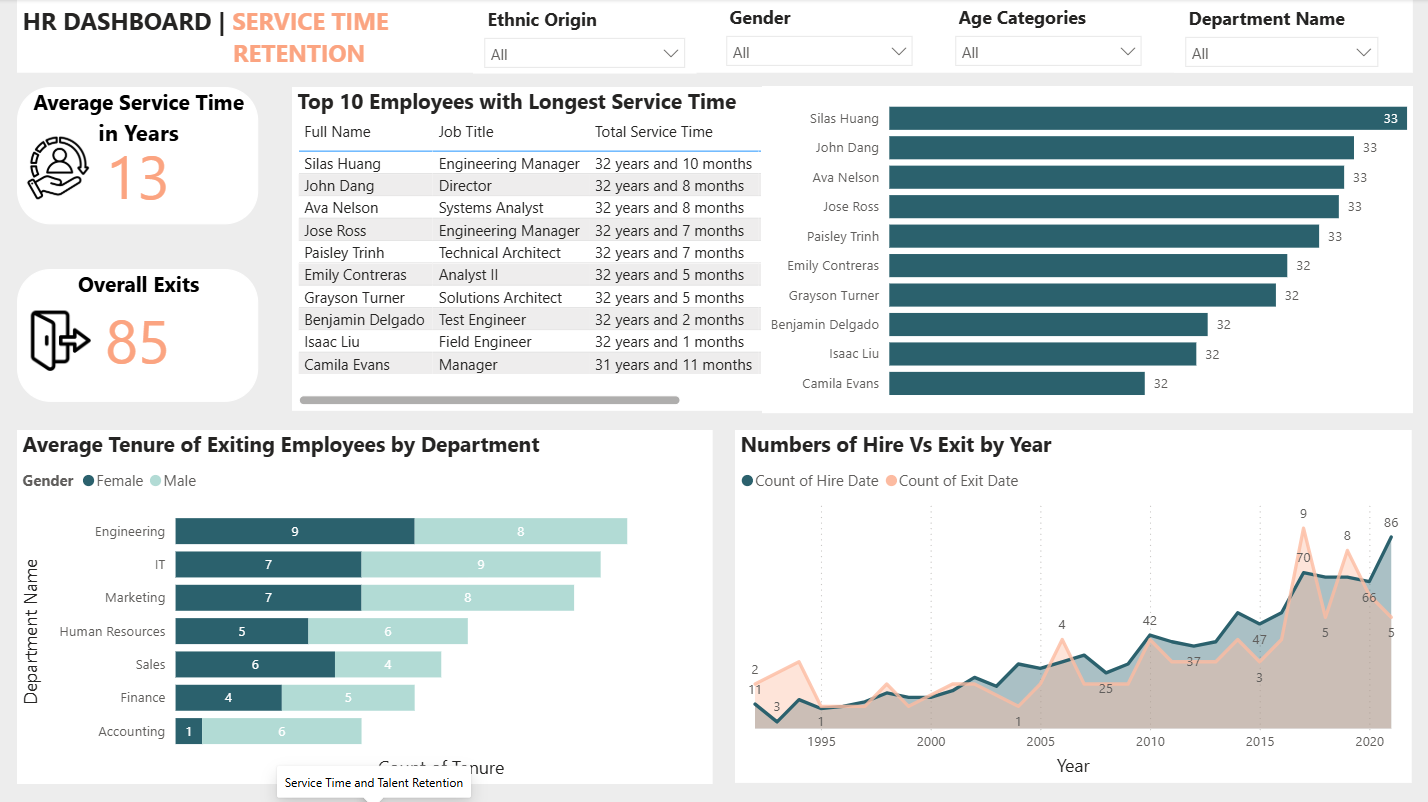

The dashboard page shown, as its layout file describes it:
{"tool":"powerbi","page":{"name":"Service Time and Talent Retention","canvas":[1280,720],"ordinal":3},"visuals":[{"type":"tableEx","title":"Top 10 Employees with Longest Service Time ","fields":{"Values":["Employee Data.Full Name","Employee Data.Job Title","Employee Data.Service Years Text","Sum(Employee Data.Service Years)"]},"box":[263.3,78.7,425.3,290],"z":0},{"type":"barChart","title":"Top 10 Employees by Longest Service Time by Department","fields":{"Category":["Employee Data.Full Name"],"Y":["Max(Employee Data.Service Years)"]},"box":[684,78,582.7,292.7],"z":1000},{"type":"textbox","box":[17.3,0,1250,66.4],"z":2000},{"type":"slicer","fields":{"Values":["Ethnicity.Ethnic Origin"]},"box":[425.3,2,200,64.7],"z":3000},{"type":"slicer","fields":{"Values":["Employee Data.Gender"]},"box":[642,0,187.3,64.7],"z":4000},{"type":"slicer","fields":{"Values":["Employee Data.Age Categories"]},"box":[847.3,0,187.3,64.7],"z":5000},{"type":"slicer","fields":{"Values":["Department.Department Name"]},"box":[1053.3,0.7,192.7,64.7],"z":6000},{"type":"card","title":"Average Service Time ","fields":{"Values":["Avg(Employee Data.Service Years)"]},"box":[17.1,78.6,215.7,122.9],"z":7000},{"type":"card","title":"Overall Exits","fields":{"Values":["CountNonNull(Employee Data.Exit Date)"]},"box":[17.1,241.4,215.7,118.6],"z":8000},{"type":"barChart","title":"Average Tenure of Exiting Employees by Department","fields":{"Category":["Department.Department Name"],"Y":["CountNonNull(Employee Data.Tenure)"],"Series":["Employee Data.Gender"]},"box":[17.1,385.7,622.9,317.1],"z":9000},{"type":"lineChart","title":"Numbers of Hire Vs Exit by Year","fields":{"Category":["Employee Data.Hire Date.Variation.Date Hierarchy.Year"],"Y":["CountNonNull(Employee Data.Hire Date)"],"Y2":["CountNonNull(Employee Data.Exit Date)"]},"box":[660,385.7,605.7,315.7],"z":10000},{"type":"image","box":[23.3,274.2,65.8,64.2],"z":11000},{"type":"image","box":[17.5,117.5,71.7,68.3],"z":12000}]}

Visuals, with their boxes in screenshot pixels (x1, y1, x2, y2), scaled from the page's 1280x720 canvas onto the 1428x802 screenshot:
"Top 10 Employees with Longest Service Time " tableEx: 294:88:768:411
"Top 10 Employees by Longest Service Time by Department" barChart: 763:87:1413:413
textbox: 19:0:1414:74
slicer - Ethnicity.Ethnic Origin: 474:2:698:74
slicer - Employee Data.Gender: 716:0:925:72
slicer - Employee Data.Age Categories: 945:0:1154:72
slicer - Department.Department Name: 1175:1:1390:73
"Average Service Time " card: 19:88:260:224
"Overall Exits" card: 19:269:260:401
"Average Tenure of Exiting Employees by Department" barChart: 19:430:714:783
"Numbers of Hire Vs Exit by Year" lineChart: 736:430:1412:781
image: 26:305:99:377
image: 20:131:100:207
